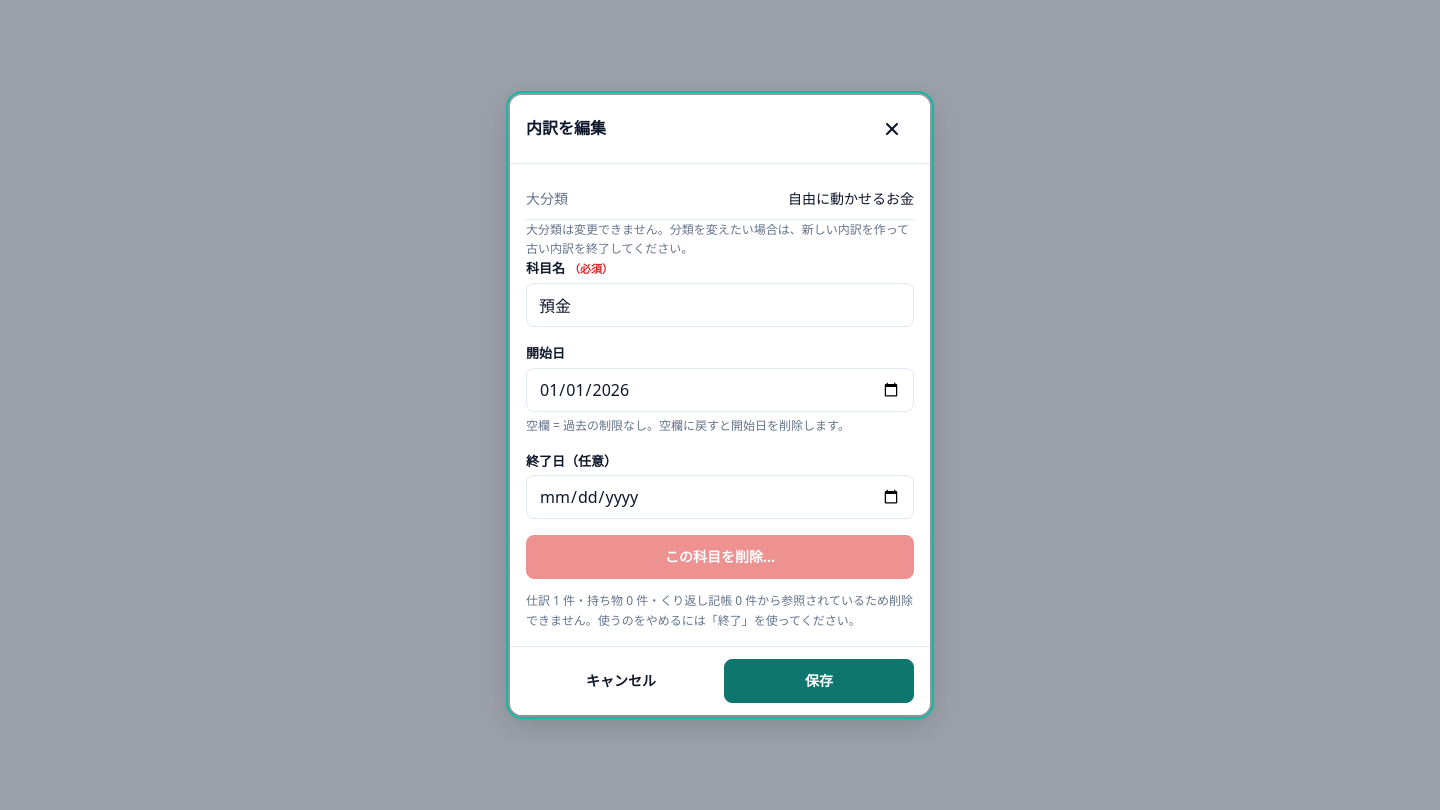
Scenario: 科目編集シートの存在期間 › 最終仕訳より前へ終了点を縮める保存は拒否する
Expected: the date field labelled "開始日" is shown, [526,368,914,412]
Type "2026-06-14" into the date field labelled "終了日（任意）" at (720, 498), box [526,476,914,520]
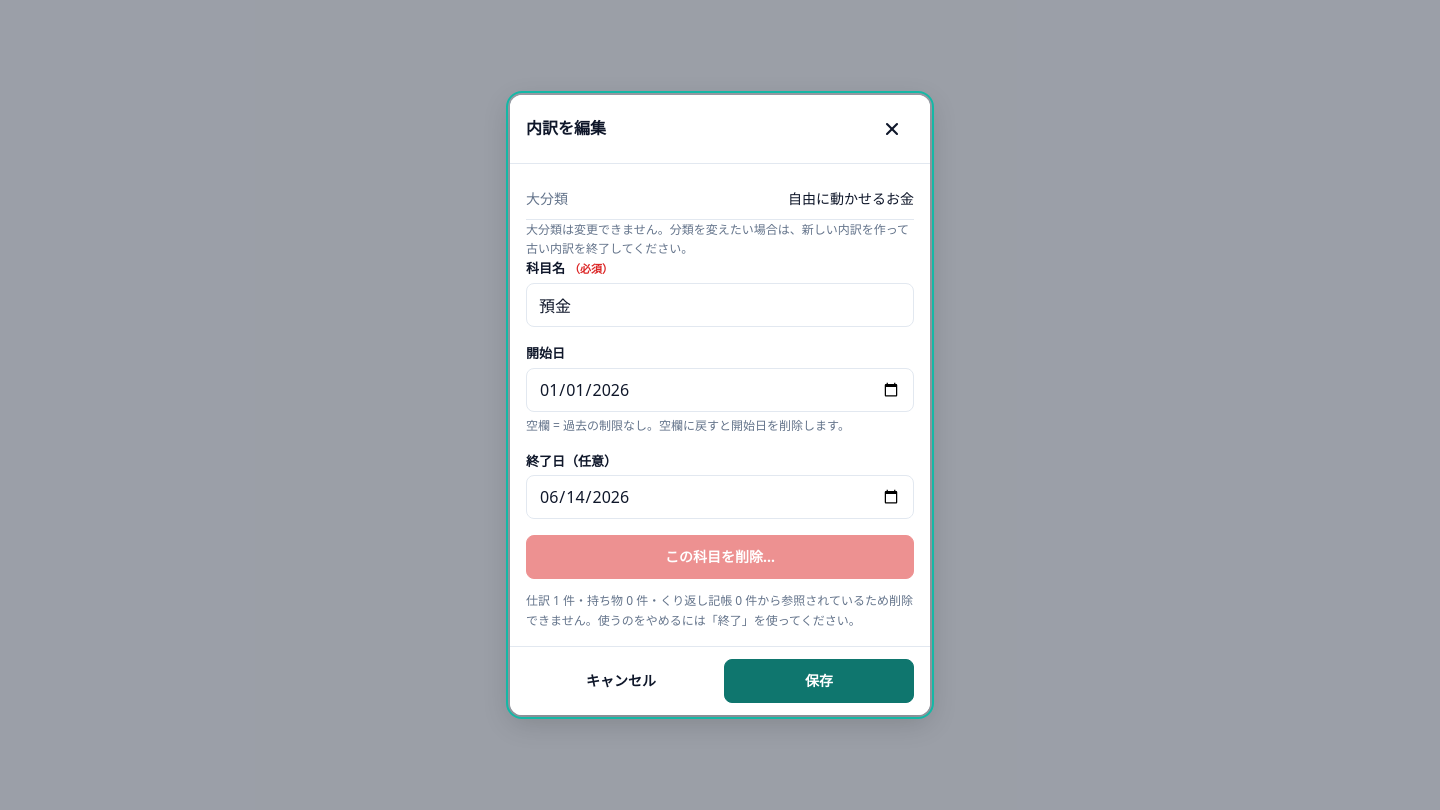
Click the button "保存" at (819, 681), box [724,659,914,703]
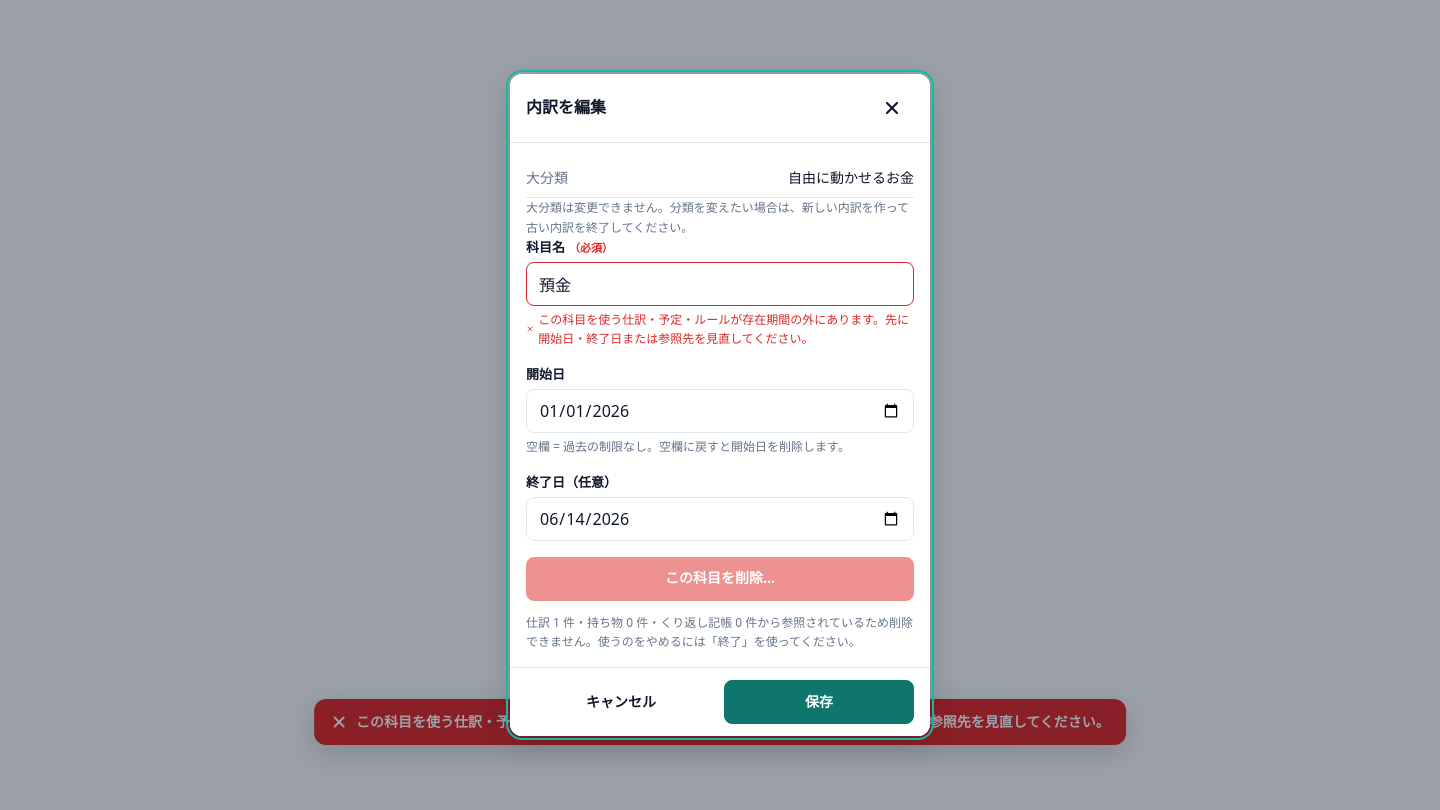
Expected: the message "この科目を使う仕訳・予定・ルールが存在期間の外にあります。先に開始日・終了日または参照先を見直してください。" below "科目名" is shown, [538,310,909,347]
